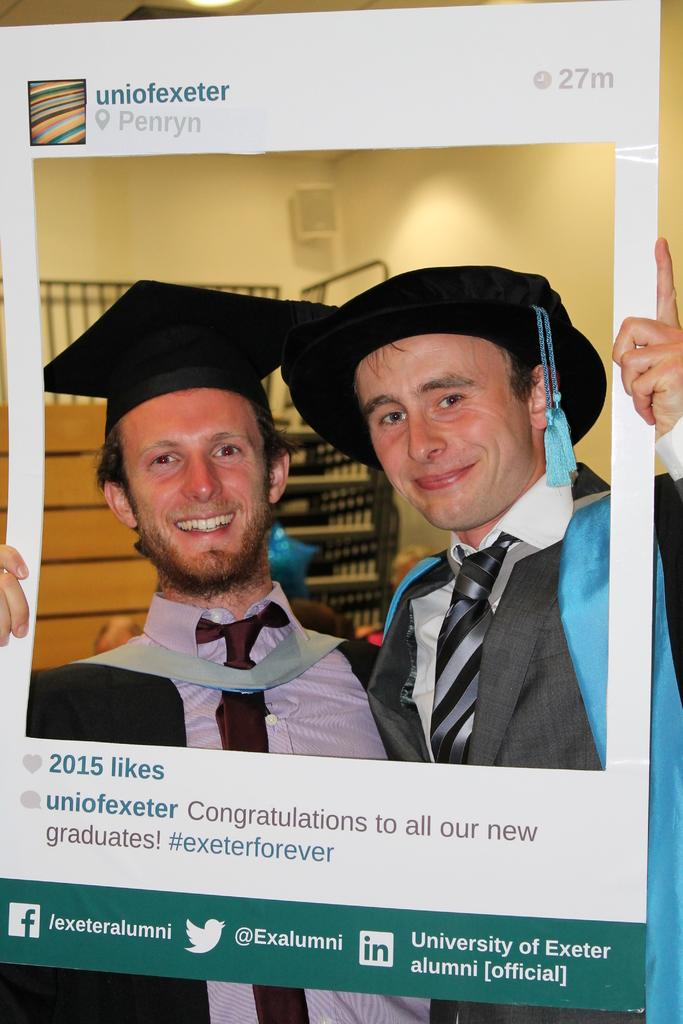Hat: (279, 264, 608, 484), (43, 278, 337, 428)
